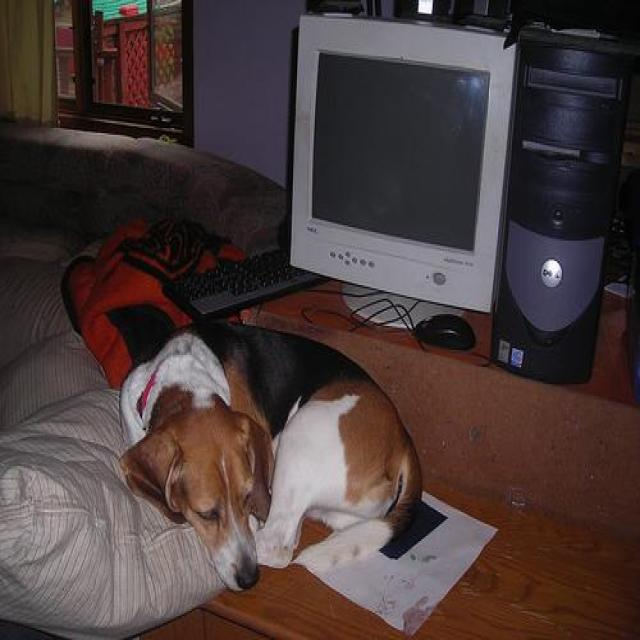beagle: (123, 319, 424, 596)
